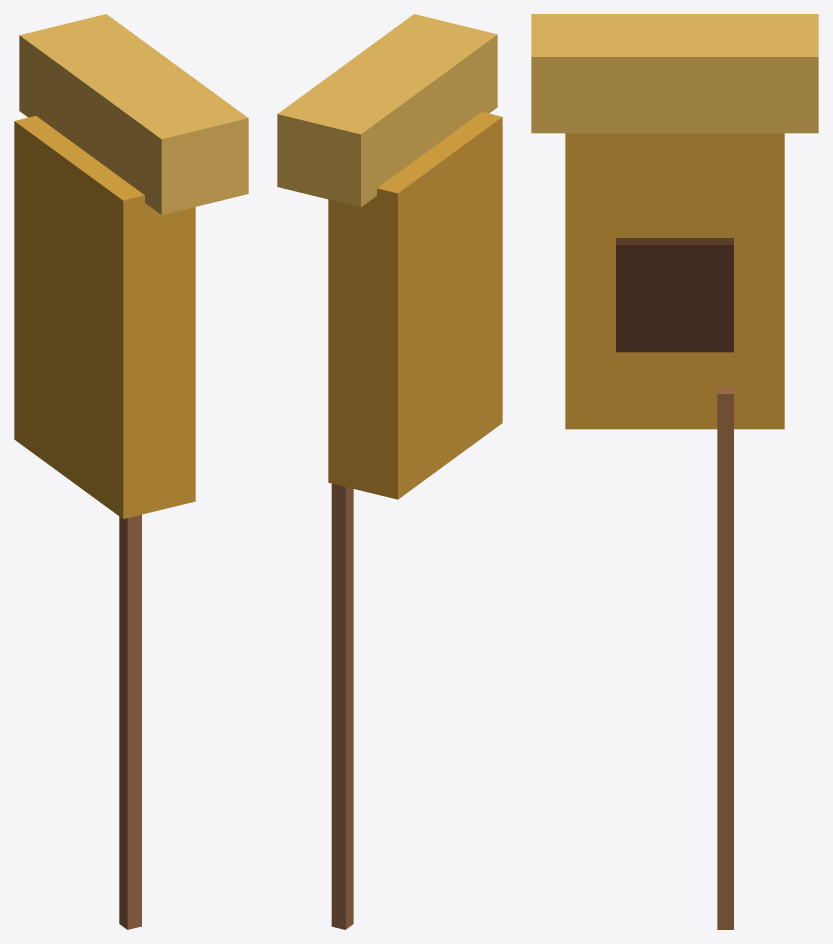
Rendered from phone.glb.
3 renders of one model, left to right at view 1: azimuth 30°, elevation 25°; view 2: azimuth 150°, elevation 25°; view 3: azimuth 270°, elevation 25°, orthographic. The views are drawn at different scales.
Visible parts, largest first — view 1: Box1, Box2, Box4; view 2: Box1, Box2, Box4; view 3: Box1, Box2, Box3, Box4.
Part boxes in pixels (<box>): Box1: <box>14,116,195,518</box>; Box2: <box>19,14,248,214</box>; Box4: <box>119,514,141,929</box>; Box1: <box>328,112,502,499</box>; Box2: <box>277,14,497,207</box>; Box4: <box>331,483,353,929</box>; Box1: <box>565,133,784,429</box>; Box2: <box>531,14,818,133</box>; Box3: <box>616,238,733,352</box>; Box4: <box>717,387,733,929</box>.
Size of the model in its own units: 0.15 by 1.15 by 0.34.
